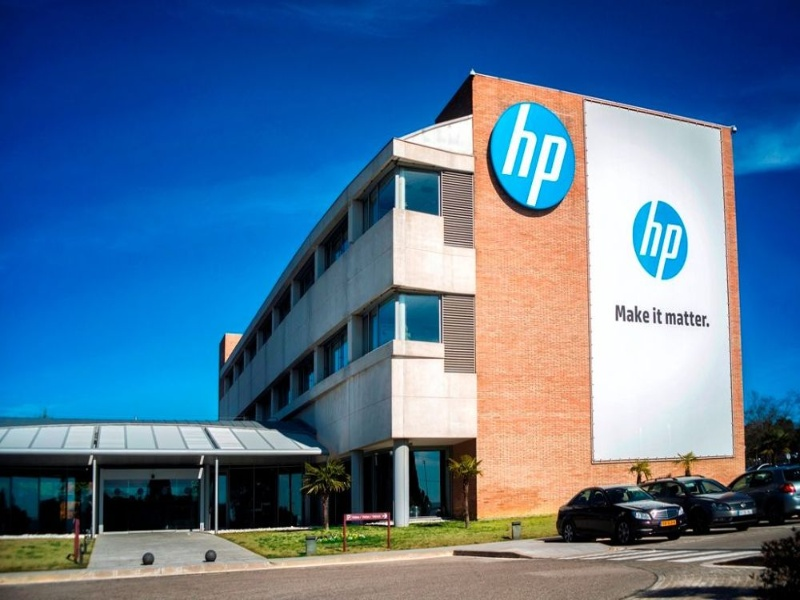hp: (508, 102, 566, 212), (634, 200, 684, 278)
